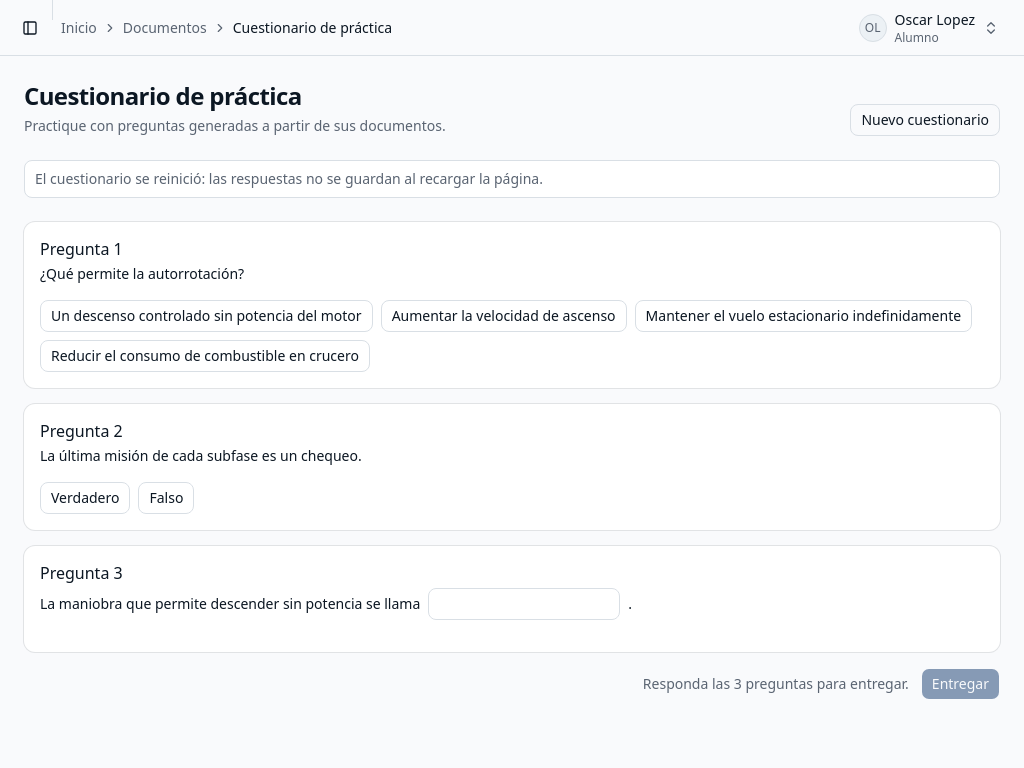
it: Resolver el cuestionario de práctica › CA-CUE-09 una respuesta equivocada se marca y muestra la correcta
This screenshot has width=1024, height=768.
Expected: the element "Pregunta 1" is shown, [24, 222, 1000, 388]
Click the radio button labelled "Aumentar la velocidad de ascenso" at [504, 316], box [381, 300, 627, 332]
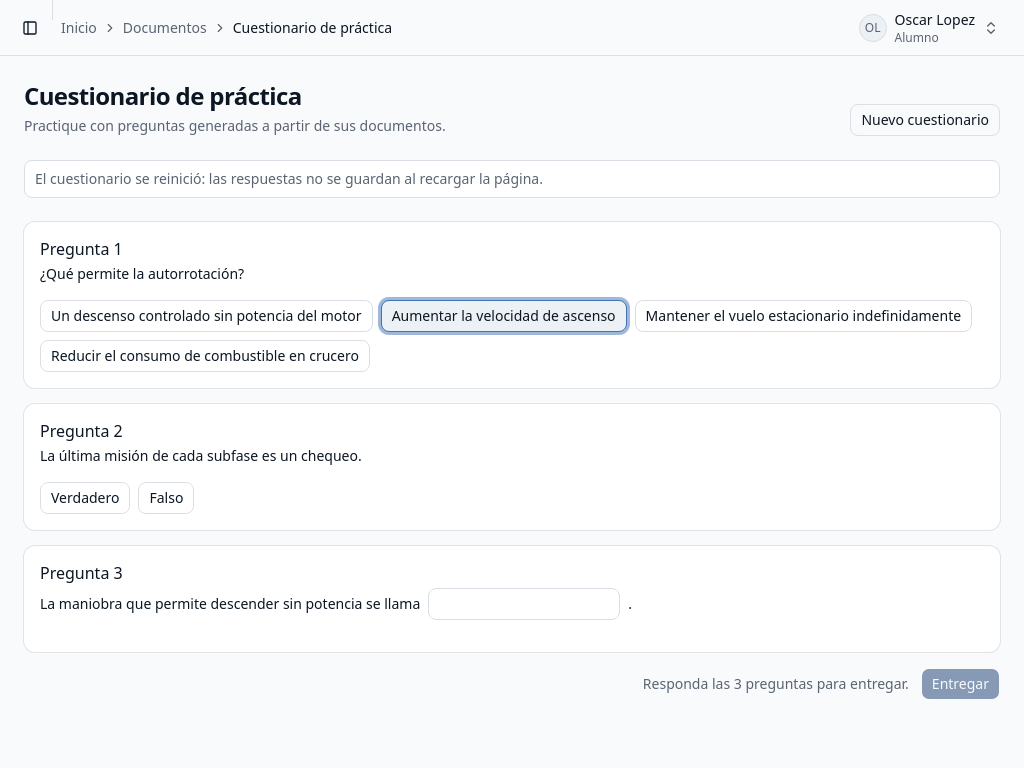
Click the radio button labelled "Falso" at [166, 498], box [138, 482, 194, 514]
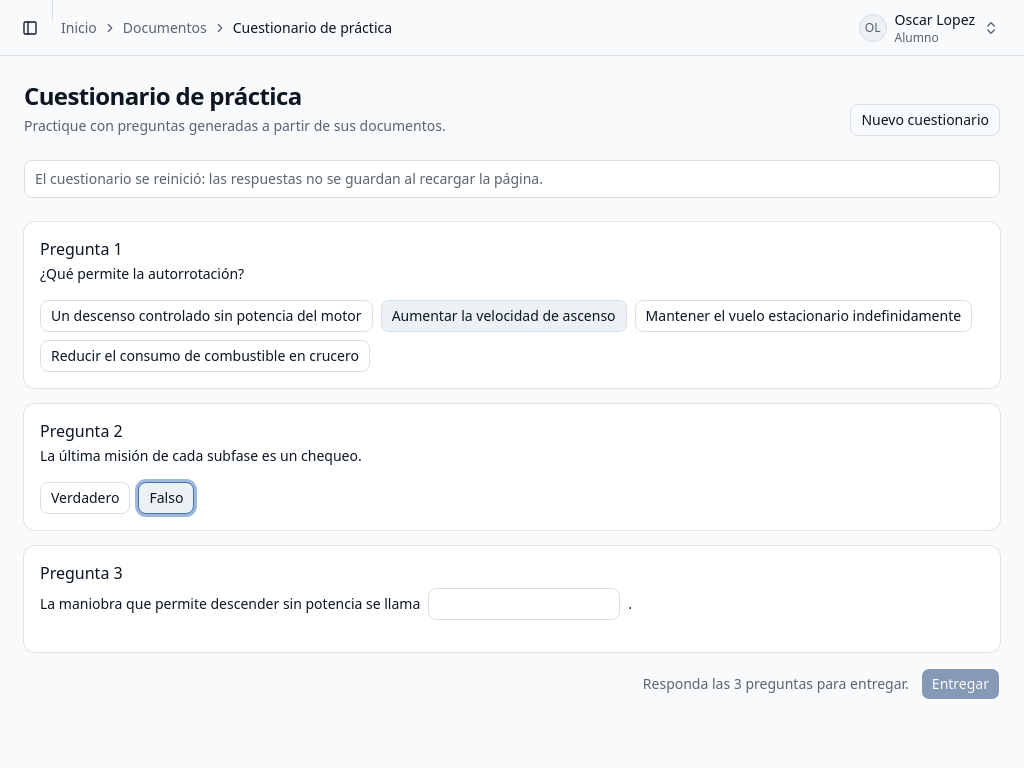
Type "autogiro" into the field named "Respuesta de la pregunta 3" at [524, 604], box [428, 588, 620, 620]
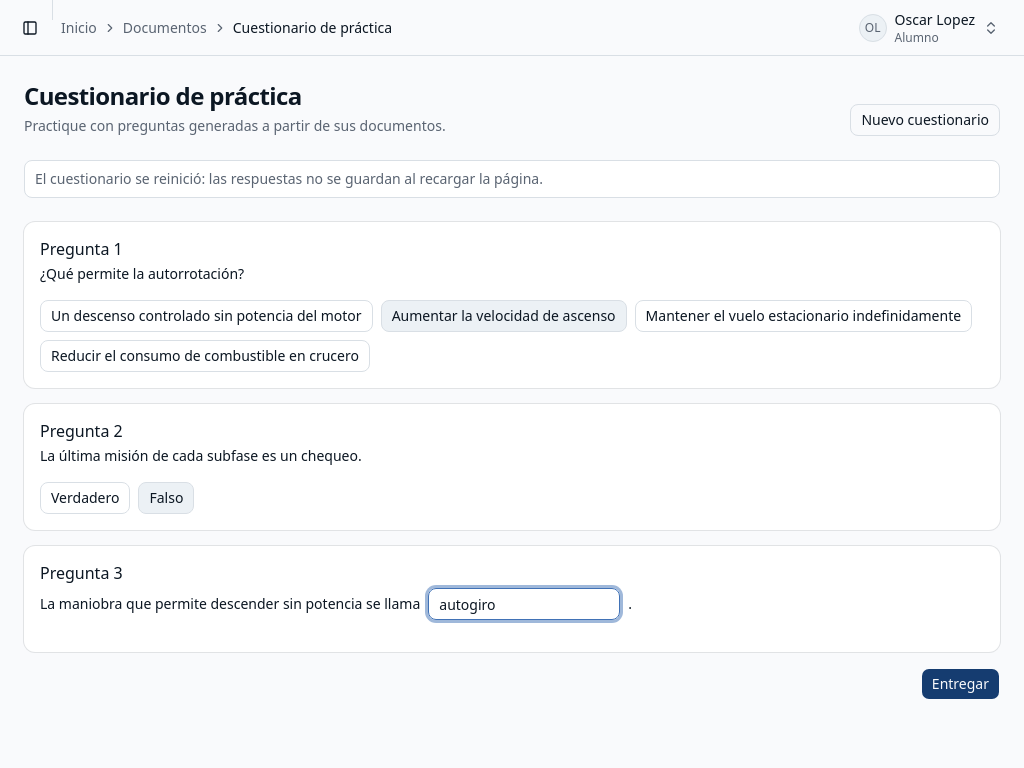
Click the button "Entregar" at [960, 684], box [921, 668, 1000, 700]
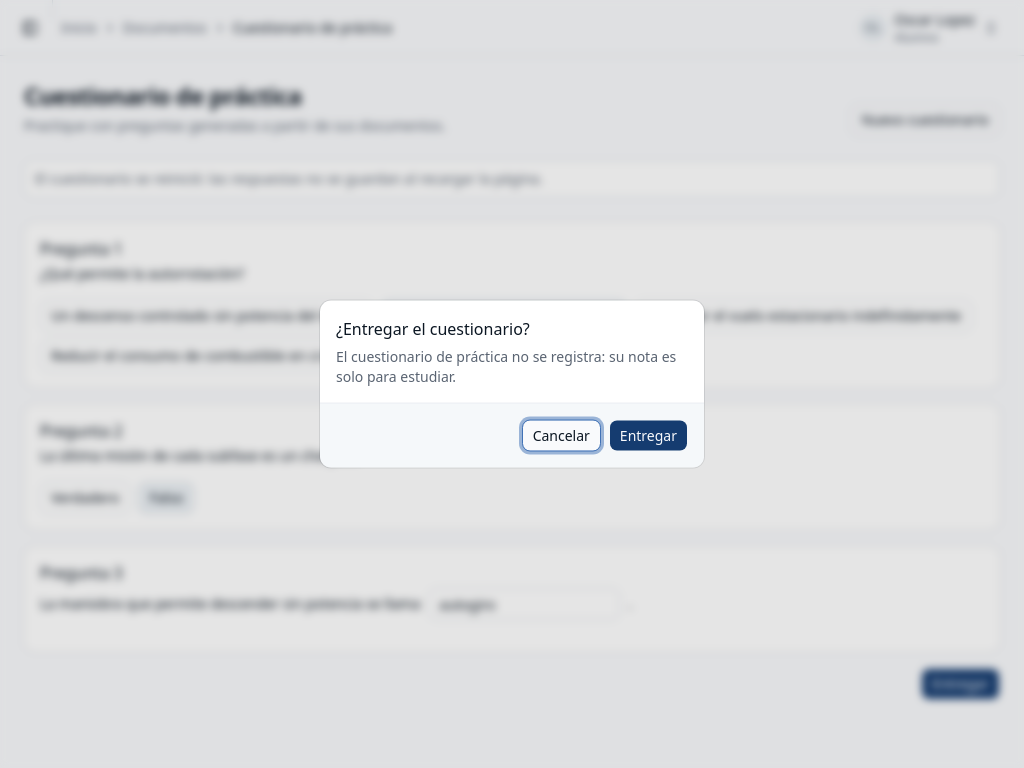
Click the button "Entregar" at [648, 436], box [609, 420, 688, 452]
(page scrolled)
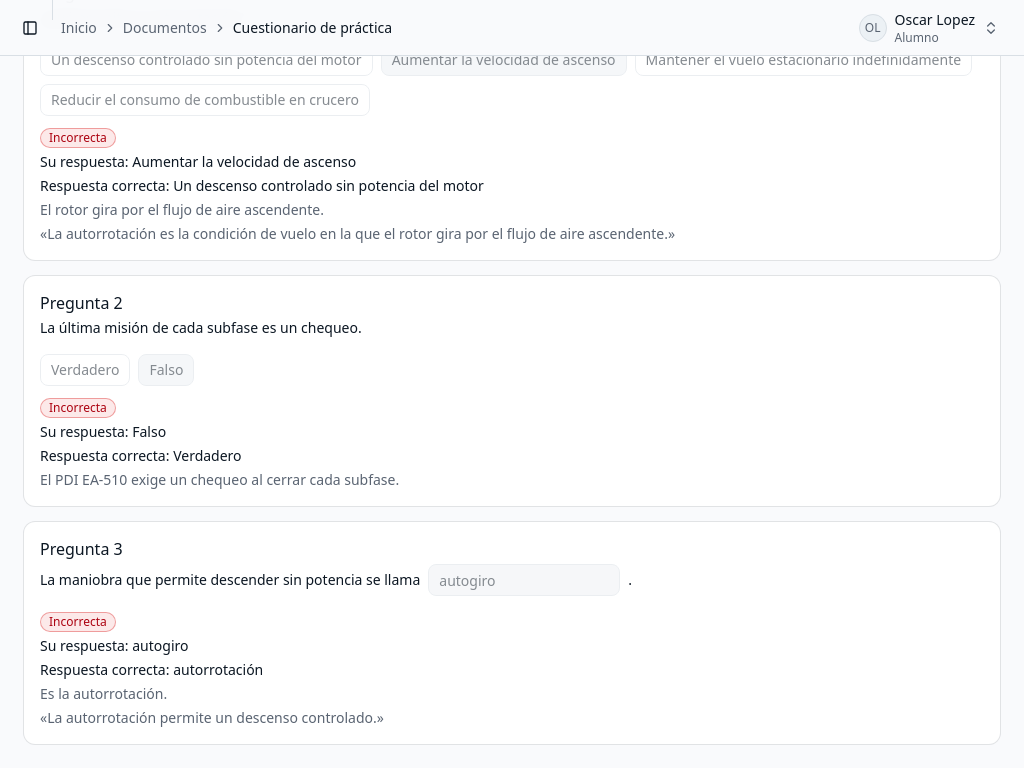
Now the text "Incorrecta" below "¿Qué permite la autorrotación?" is shown, box [49, 129, 107, 146]
Now the text "Respuesta correcta: Un descenso controlado sin potencia del motor" is shown, box [40, 176, 484, 195]
Now the text "Respuesta correcta: autorrotación" is shown, box [40, 660, 263, 679]
